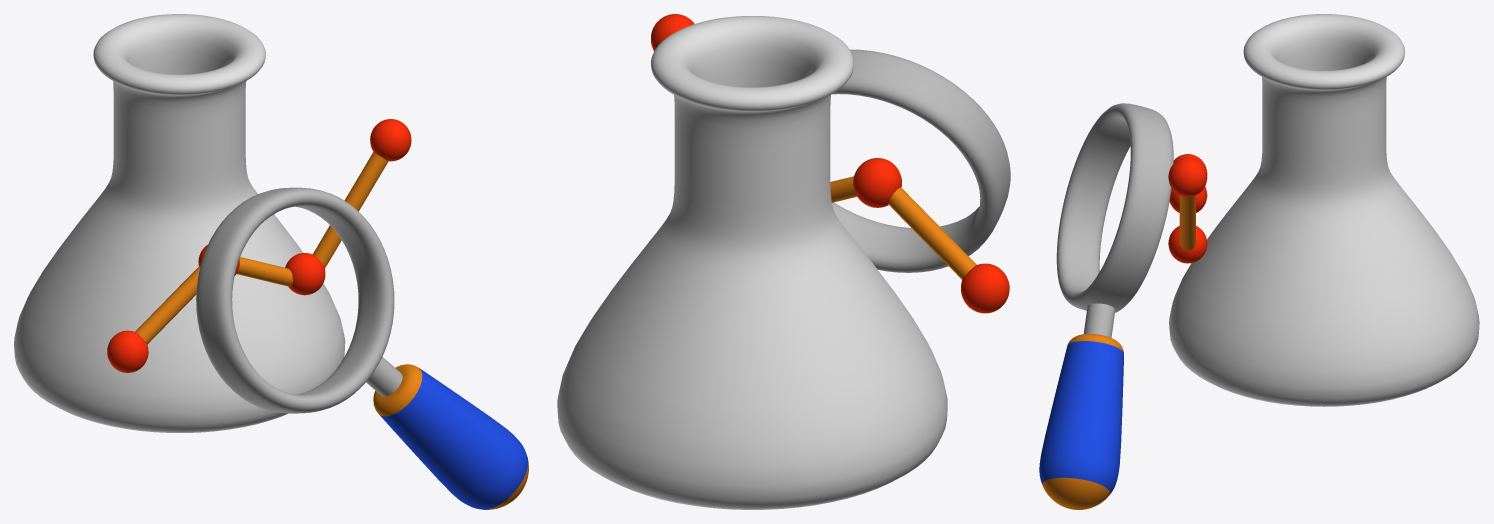
The model's file is Analysis 2.fbx.
3 views of the same model, side by side, from view 1: azimuth 30°, elevation 25°; view 2: azimuth 150°, elevation 25°; view 3: azimuth 270°, elevation 25° (orthographic). The views are drawn at different scales.
Visible parts, largest first — view 1: Cylinder, Circle, Cylinder.002, Sphere.001, Vert, Cylinder.001; view 2: Cylinder, Circle, Sphere.001, Vert; view 3: Cylinder, Circle, Cylinder.002, Sphere.001, Cylinder.001, Vert.
Part boxes in pixels (x1,y1,x2,y2): Cylinder: [14, 14, 345, 432]; Circle: [196, 187, 394, 413]; Cylinder.002: [373, 364, 528, 509]; Sphere.001: [107, 119, 411, 372]; Vert: [135, 152, 388, 344]; Cylinder.001: [366, 357, 402, 396]; Cylinder: [557, 16, 947, 509]; Circle: [832, 49, 1010, 272]; Sphere.001: [651, 14, 1009, 313]; Vert: [830, 176, 976, 279]; Cylinder: [1169, 14, 1479, 406]; Circle: [1056, 103, 1173, 312]; Cylinder.002: [1039, 333, 1123, 509]; Sphere.001: [1168, 154, 1207, 263]; Cylinder.001: [1083, 303, 1115, 337]; Vert: [1179, 195, 1195, 250].
Bounding box in the file's own units: 559 × 610 × 638.
